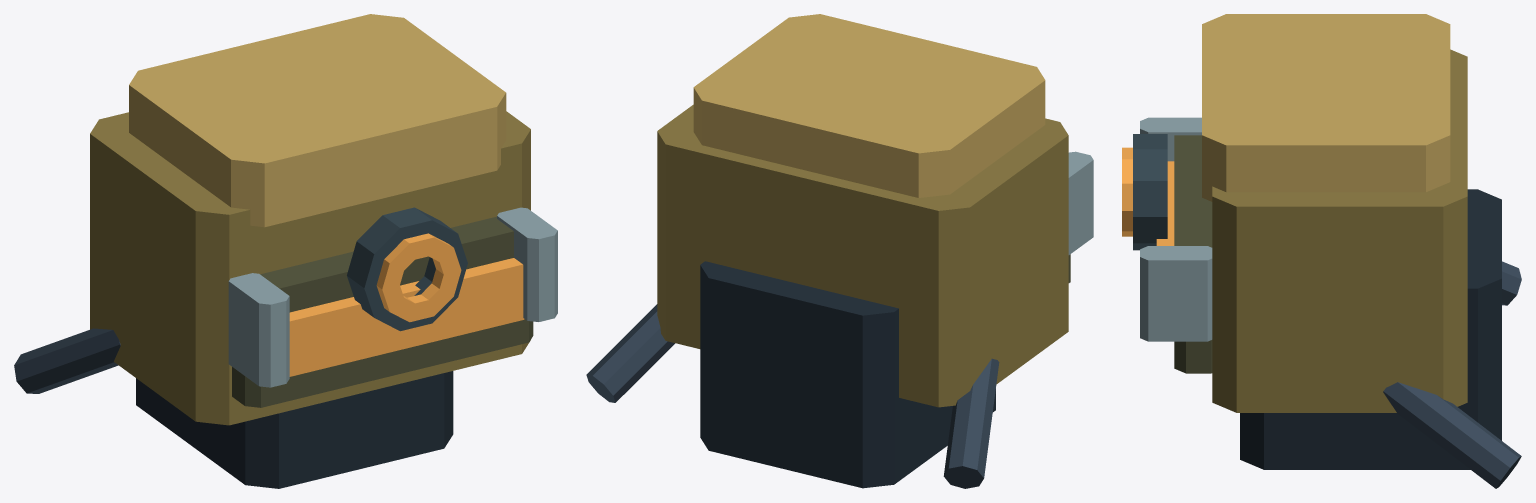
Rendered from enemy_gunner_head.obj.
The picture shows the model from 3 angles, left to right: view 1: azimuth 30°, elevation 25°; view 2: azimuth 150°, elevation 25°; view 3: azimuth 270°, elevation 25°; orthographic projection. The views are drawn at different scales.
Size of the model in its own units: 0.6952 by 0.545 by 0.5798.
